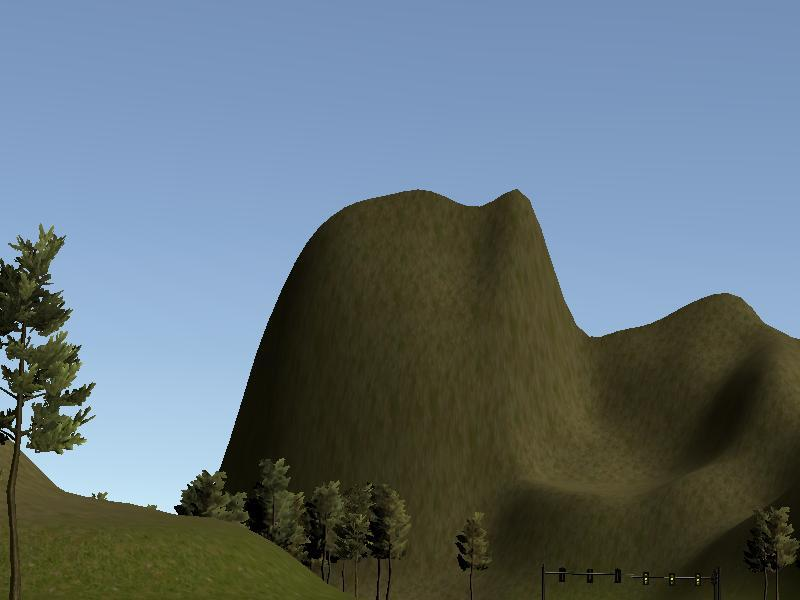Yellow: (642, 569, 649, 587), (668, 571, 675, 586), (695, 571, 701, 588)
